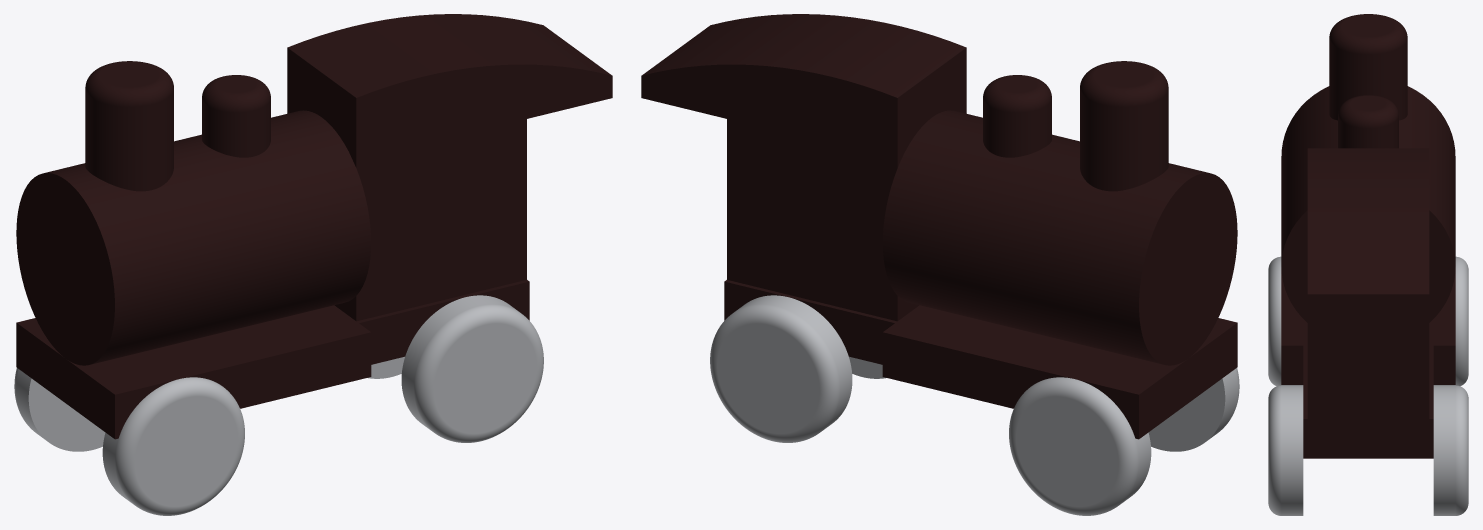
The picture shows the model from 3 angles, left to right: view 1: azimuth 30°, elevation 25°; view 2: azimuth 150°, elevation 25°; view 3: azimuth 270°, elevation 25°; orthographic projection. The views are drawn at different scales.
Size of the model in its own units: 0.12 by 0.09 by 0.046.
